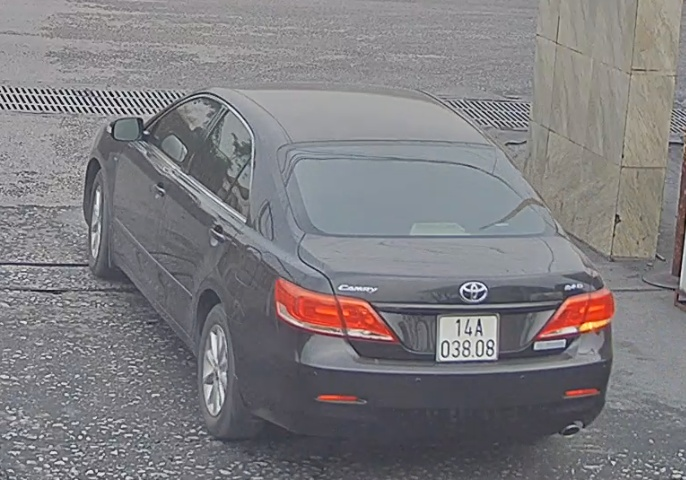vehicle plate: (431, 304, 502, 367)
